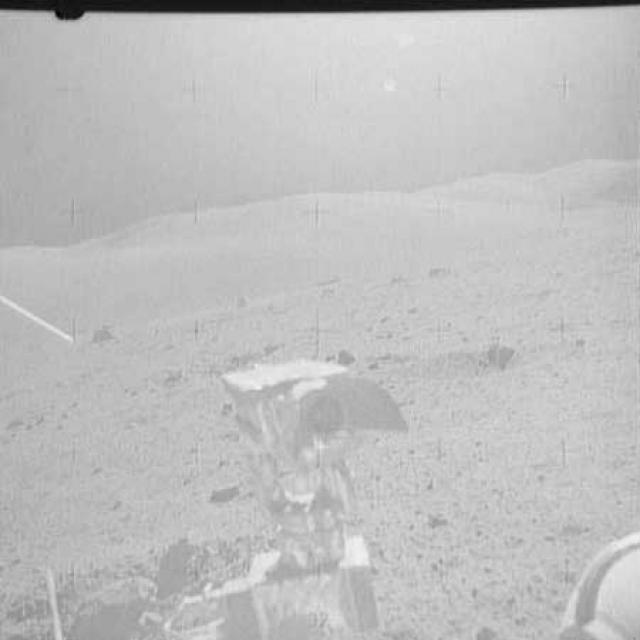artifact: (192, 346, 408, 638), (559, 522, 639, 639), (0, 290, 74, 348)
crater: (395, 335, 559, 379)
rock: (211, 481, 244, 503)
